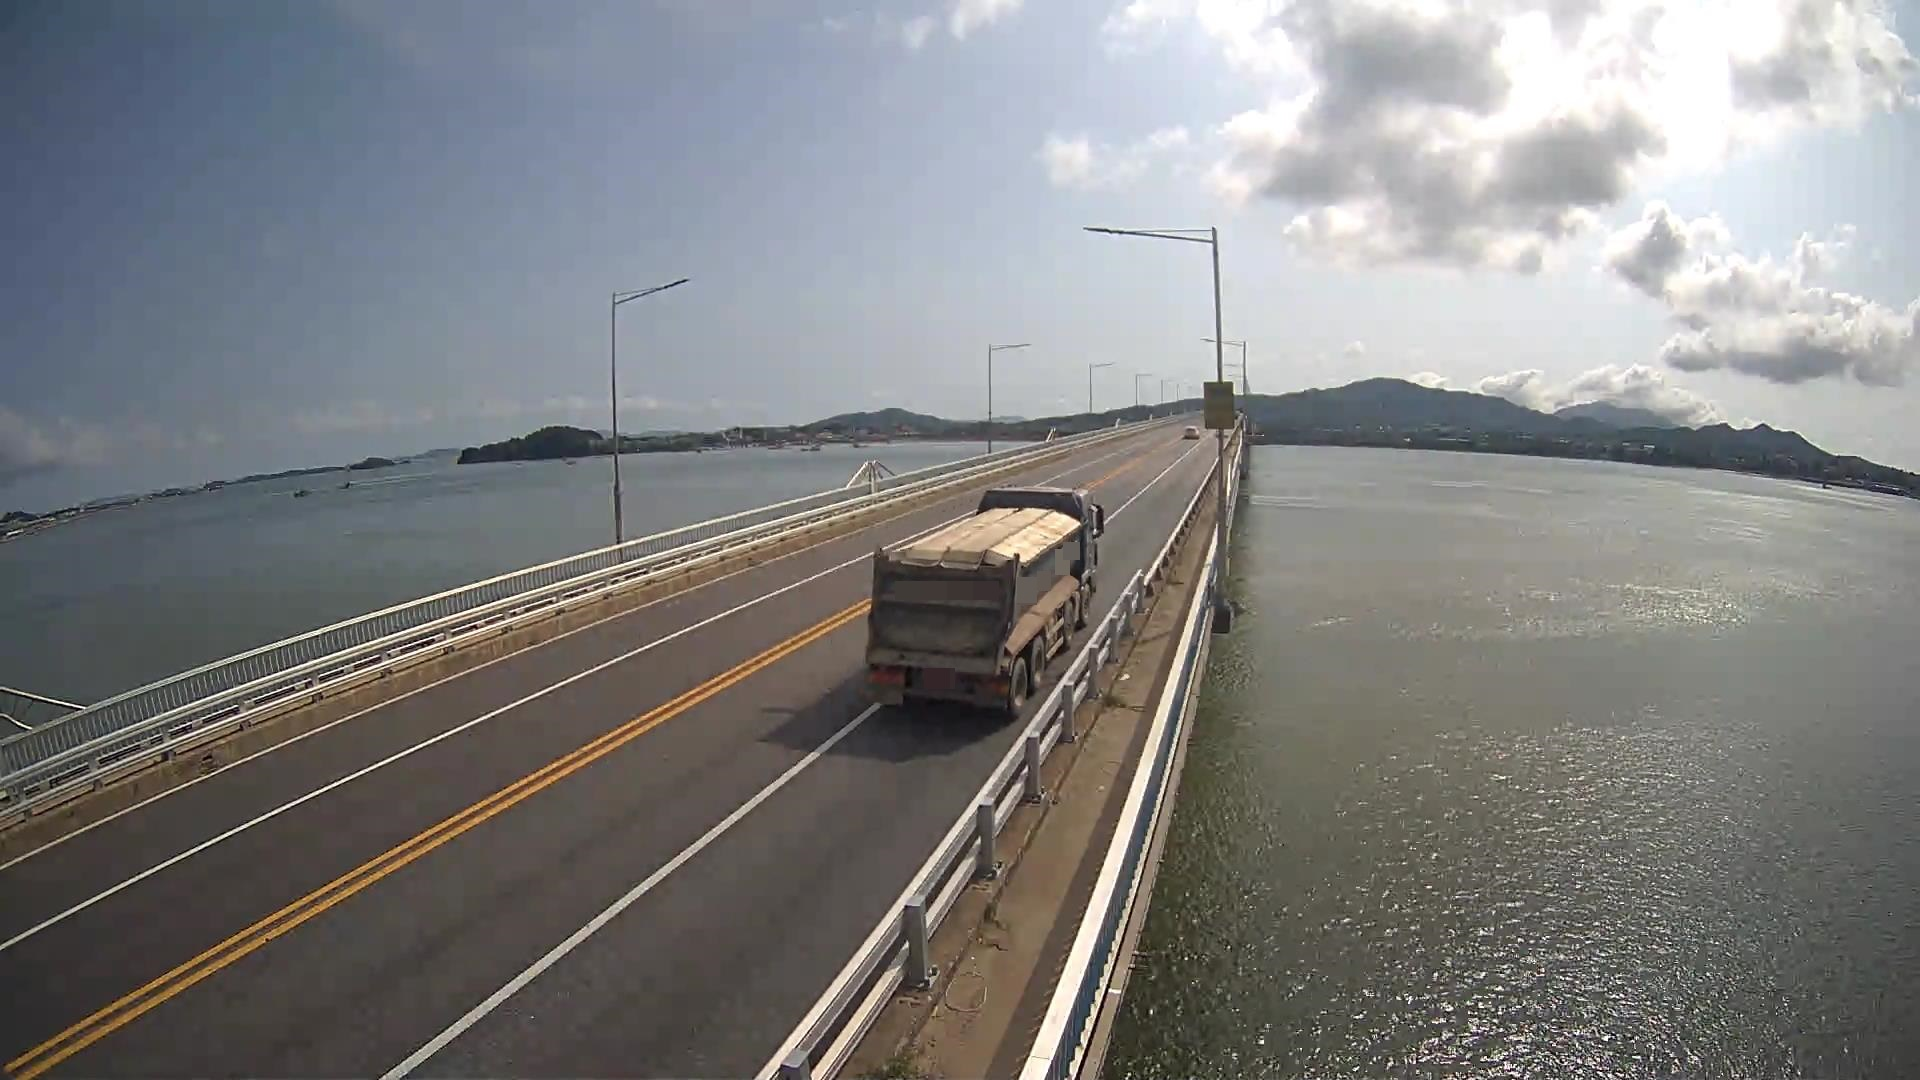정상차량: (864, 484, 1105, 720)
